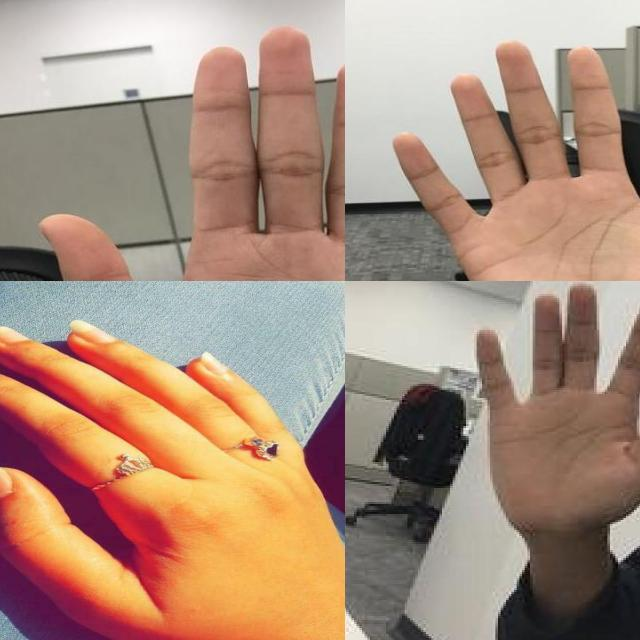hand: (0, 319, 345, 640), (37, 26, 345, 281), (387, 39, 640, 281), (474, 282, 640, 536)
